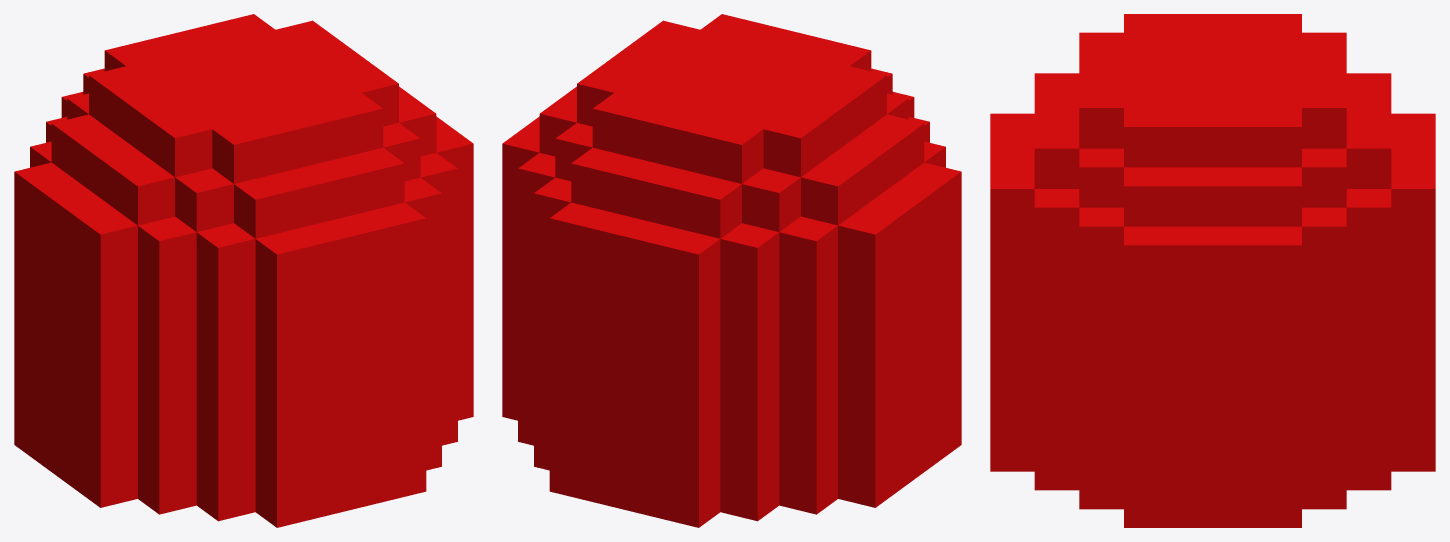
Rendered from Button.obj.
The picture shows the model from 3 angles, left to right: view 1: azimuth 30°, elevation 25°; view 2: azimuth 150°, elevation 25°; view 3: azimuth 270°, elevation 25°; orthographic projection. The views are drawn at different scales.
Size of the model in its own units: 1 by 0.9 by 1.
Materials: 1 (1 with a texture image).
